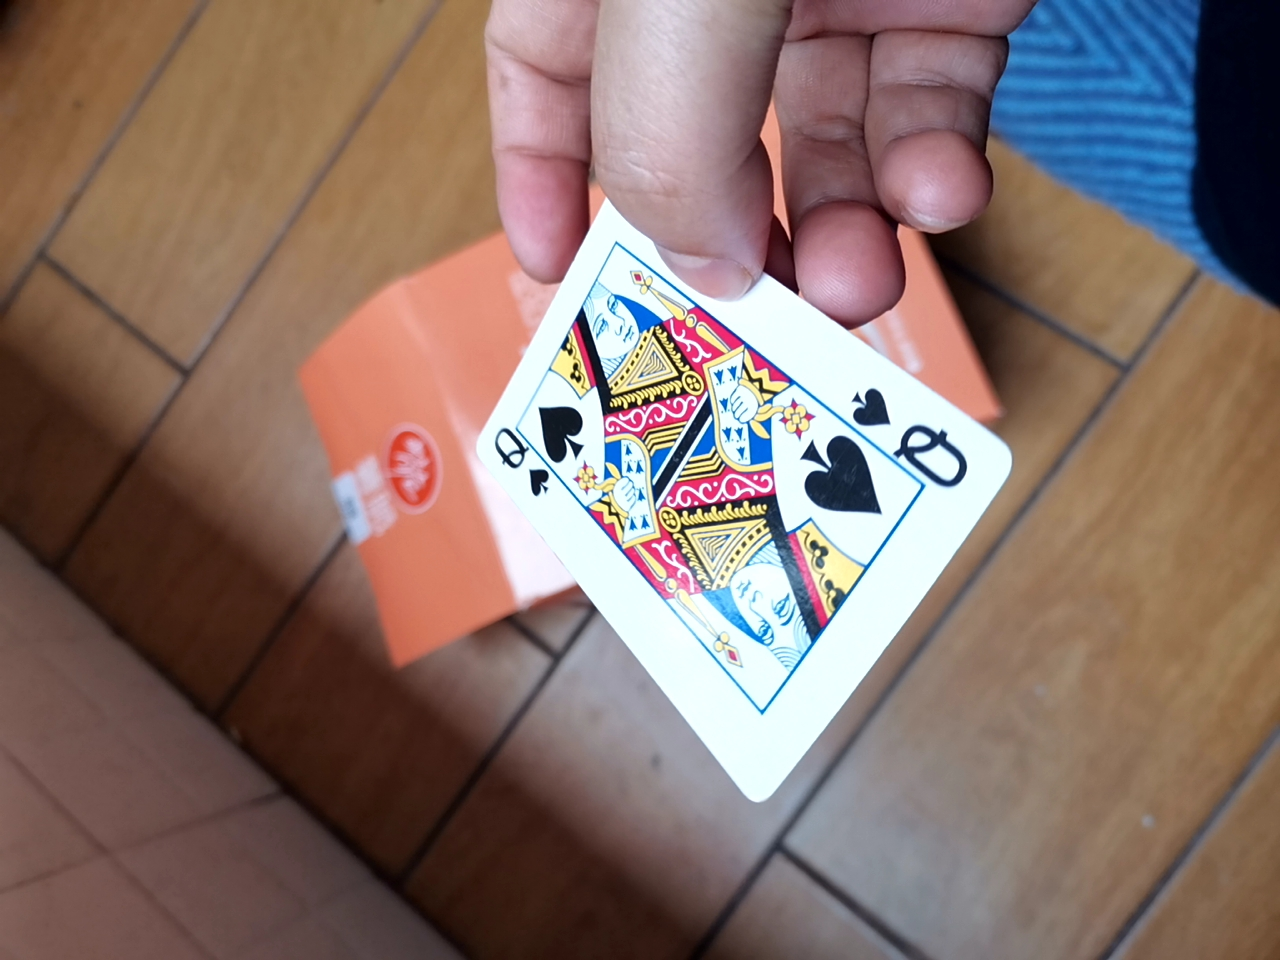ht q: (417, 169, 999, 844)
